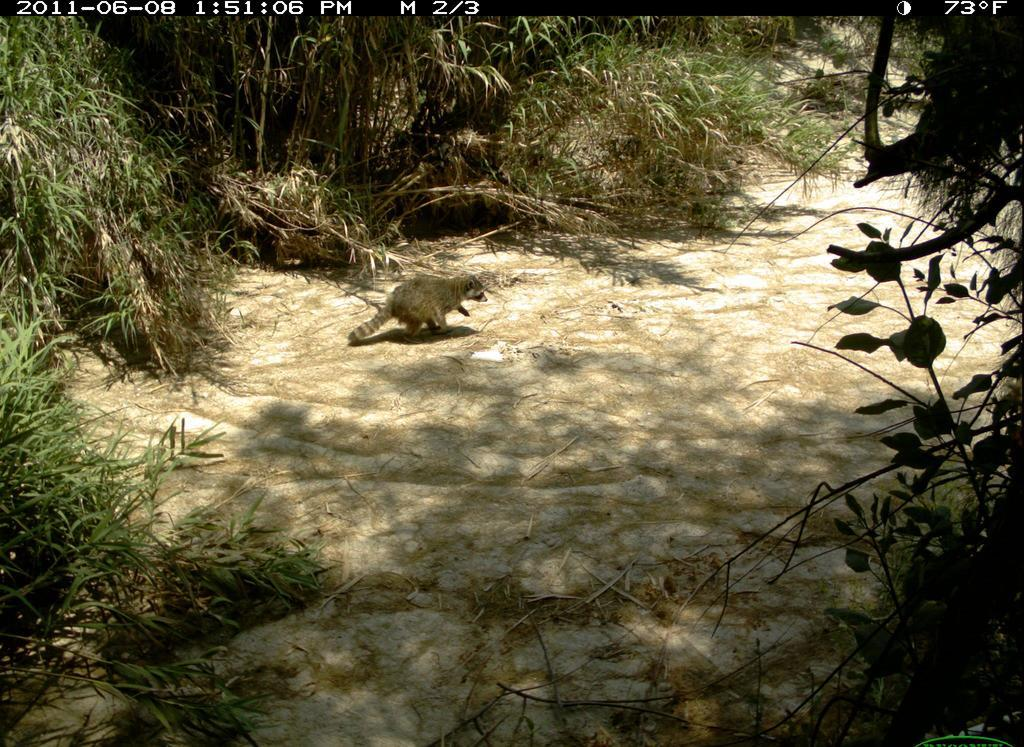raccoon: (319, 257, 519, 363)
